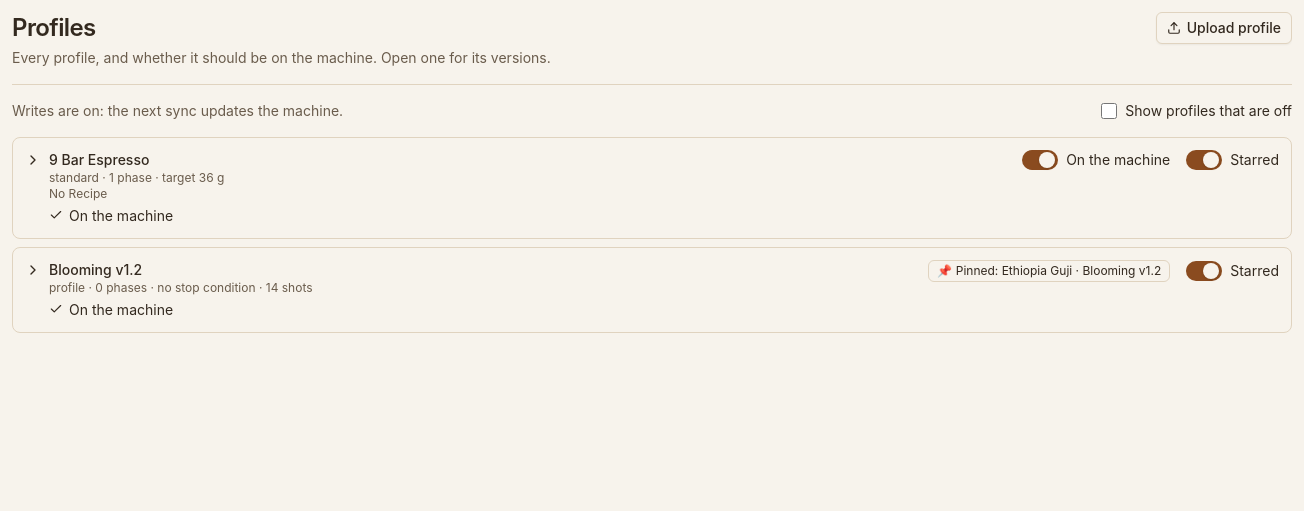
Test: a pinned row on the Profiles page › offers Duplicate Recipe, which goes to the Recipe page with the pinned version's dialog to open
This screenshot has width=1304, height=511.
Expected: the text "Blooming v1.2" is shown, [49,260,142,280]
Click the button with test id "profile-toggle" that starts with "Blooming v1.2" at (96, 270), box [25,260,912,320]
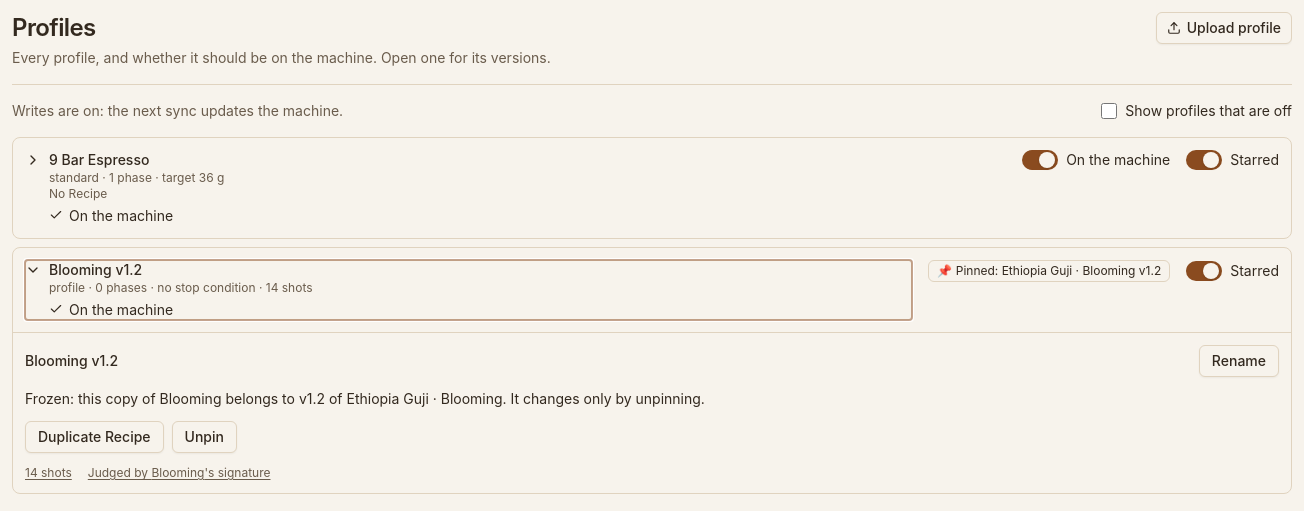
Now the link with test id "pinned-duplicate" reads "Duplicate Recipe", box [25,421,164,453]
